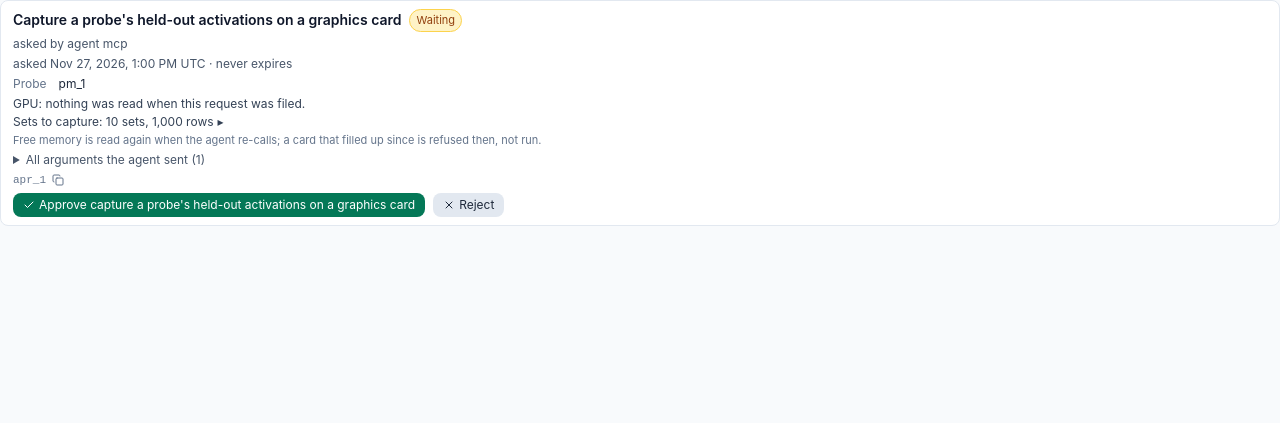
Test: the approval card lists sets one per line, collapsible › a capture's Sets to capture: the rows in the summary, one set per line
The image size is (1280, 423).
Click the button "Sets to capture: 10 sets, 1,000 rows ▸" at (118, 122), box [13,114,224,130]
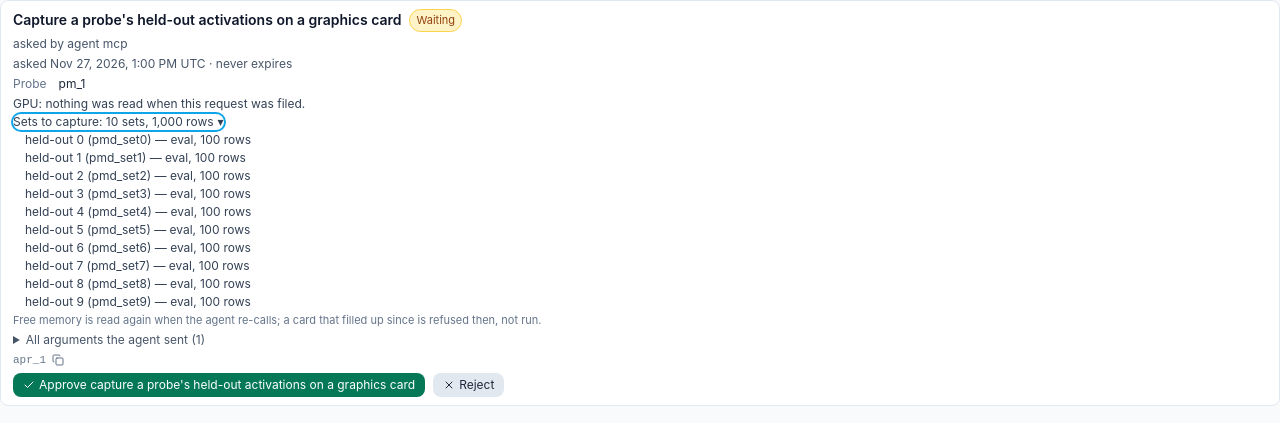
Result: the number of list items is 10
Result: the list item "held-out 0 (pmd_set0) — eval, 100 rows" is shown at [25,132,251,146]
Result: the list item "held-out 9 (pmd_set9) — eval, 100 rows" is shown at [25,294,251,308]
